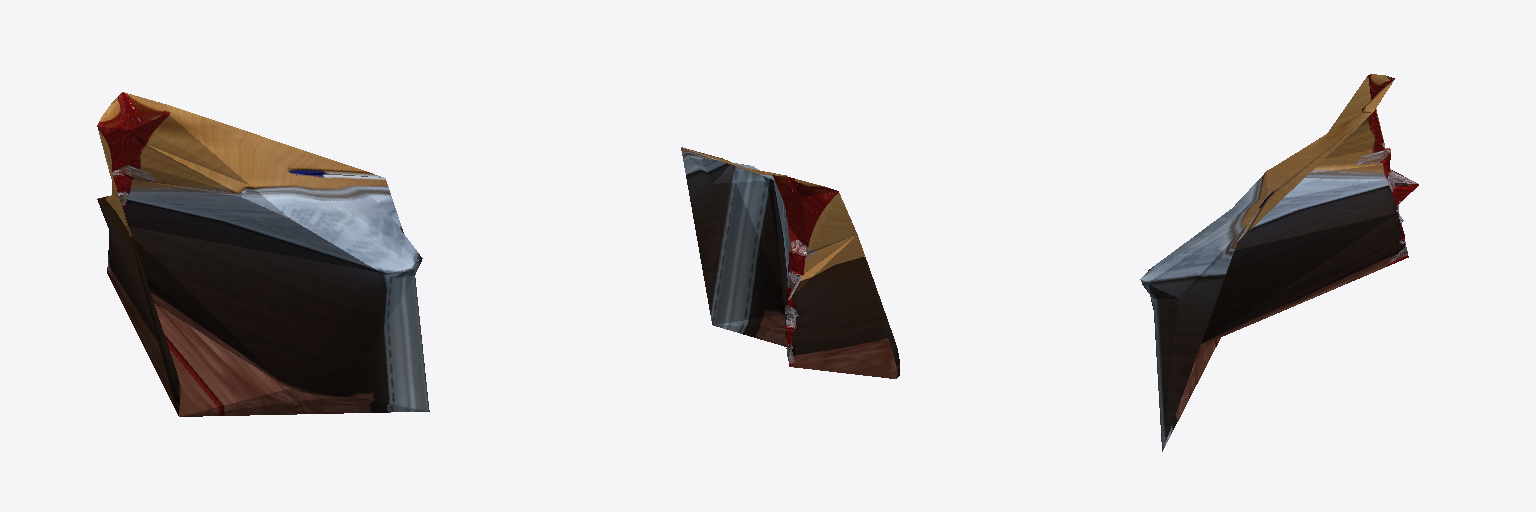
3 views of the same model, side by side, from view 1: azimuth 30°, elevation 25°; view 2: azimuth 150°, elevation 25°; view 3: azimuth 270°, elevation 25° (orthographic).
Size of the model in its own units: 4.41 by 5.16 by 4.65.
Materials: 1 (1 with a texture image).